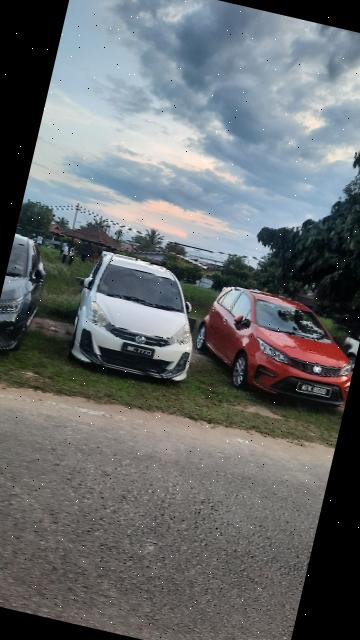License_Plate: (295, 378, 335, 402), (119, 341, 159, 363)
car: (186, 279, 360, 415), (62, 243, 214, 390)
